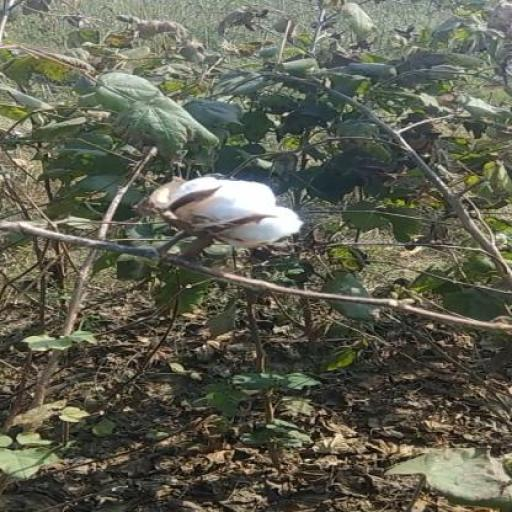cotton_ready: (140, 156, 294, 283)
